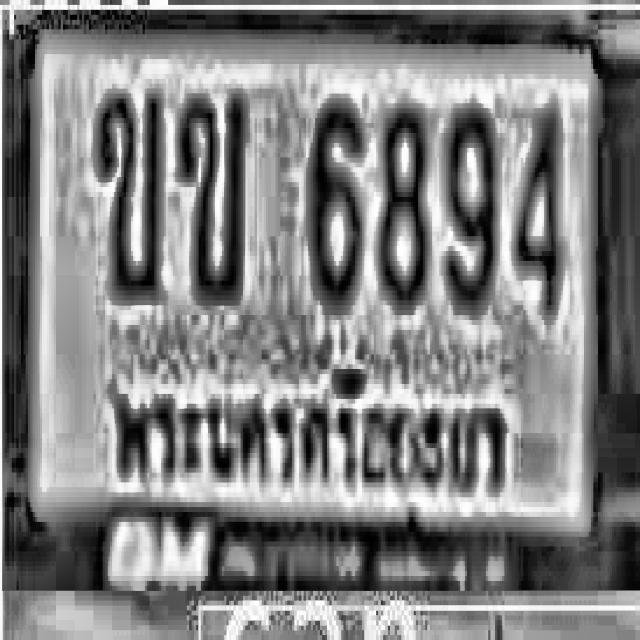license-plate: (12, 9, 615, 566)
